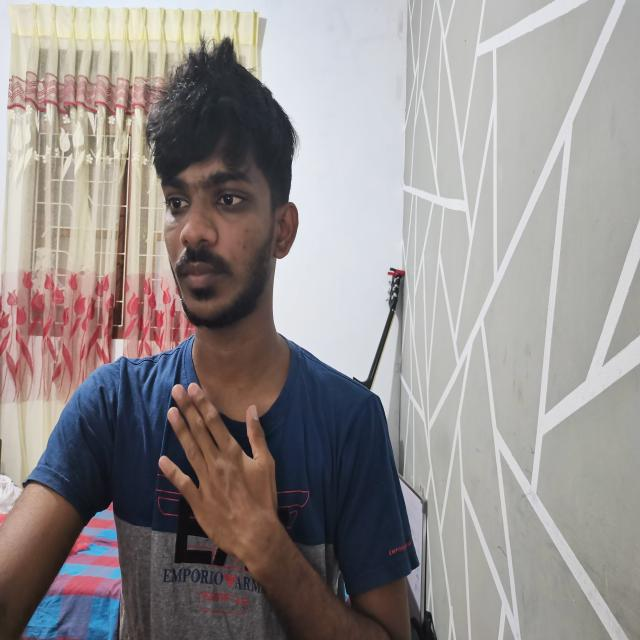Please: (157, 369, 414, 638)
